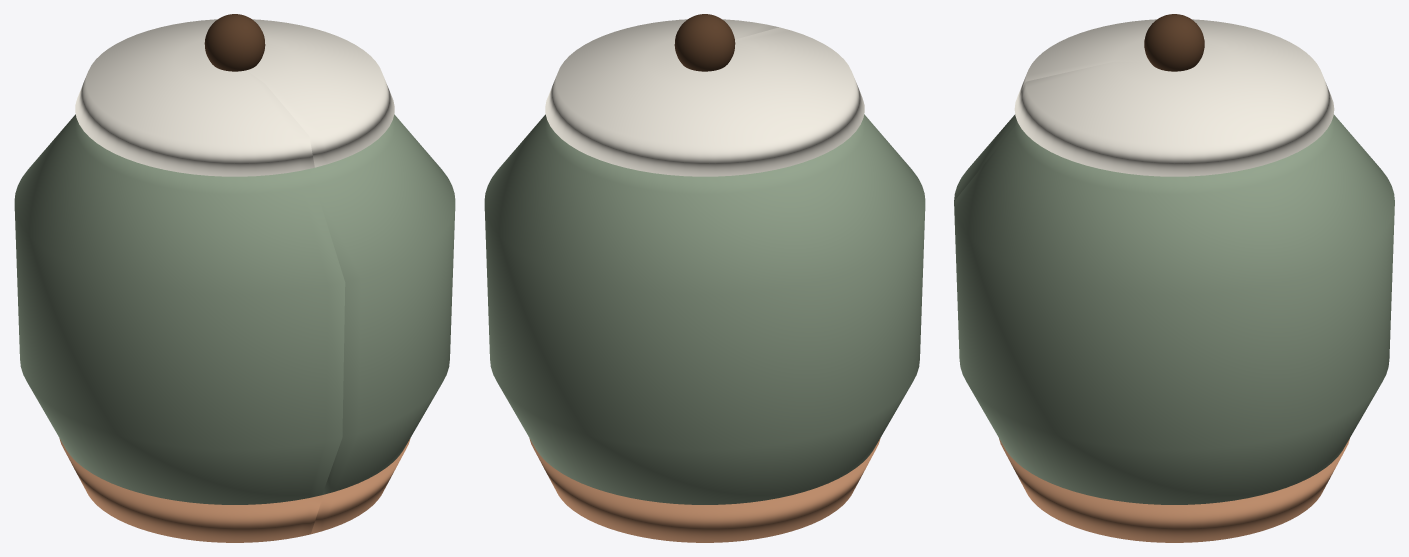
The model's file is pottery_jar.glb.
3 views of the same model, side by side, from view 1: azimuth 30°, elevation 25°; view 2: azimuth 150°, elevation 25°; view 3: azimuth 270°, elevation 25° (orthographic).
Size of the model in its own units: 1.6 by 1.85 by 1.6.
